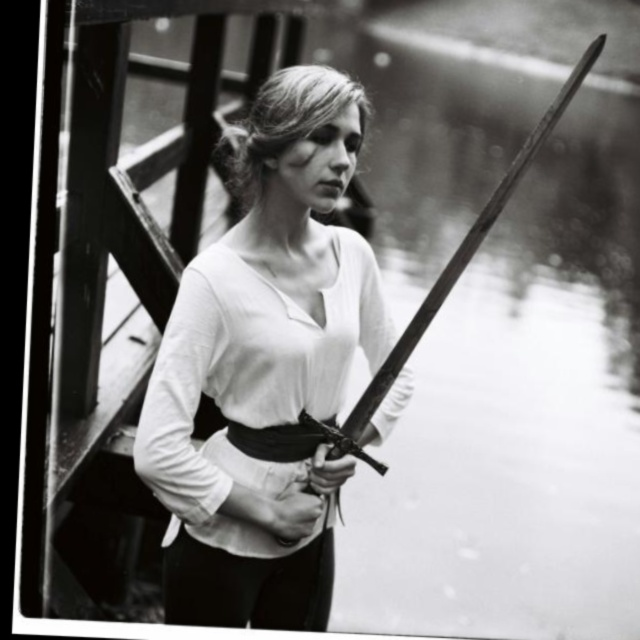Sharp-Object: (273, 25, 610, 552)
